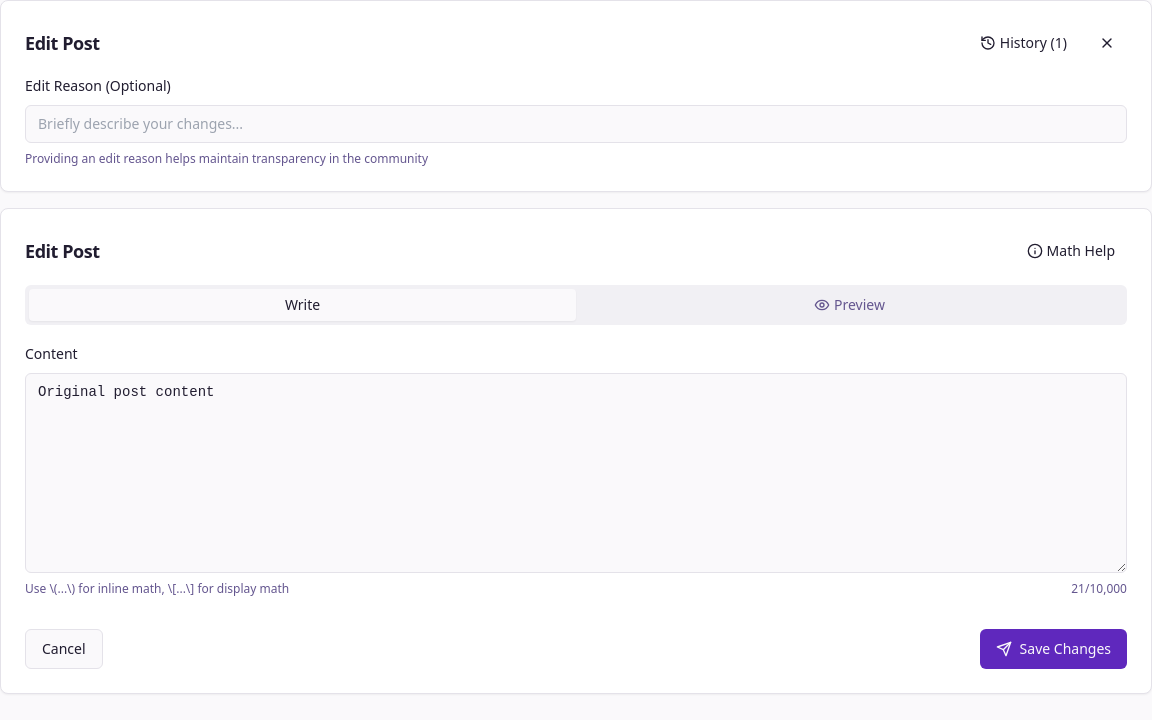
Test: PostEditor › shows edit history when history button is clicked
The width and height of the screenshot is (1152, 720).
Click the button "History (1)": [1023, 43] box [968,25,1079,61]
(page scrolled)
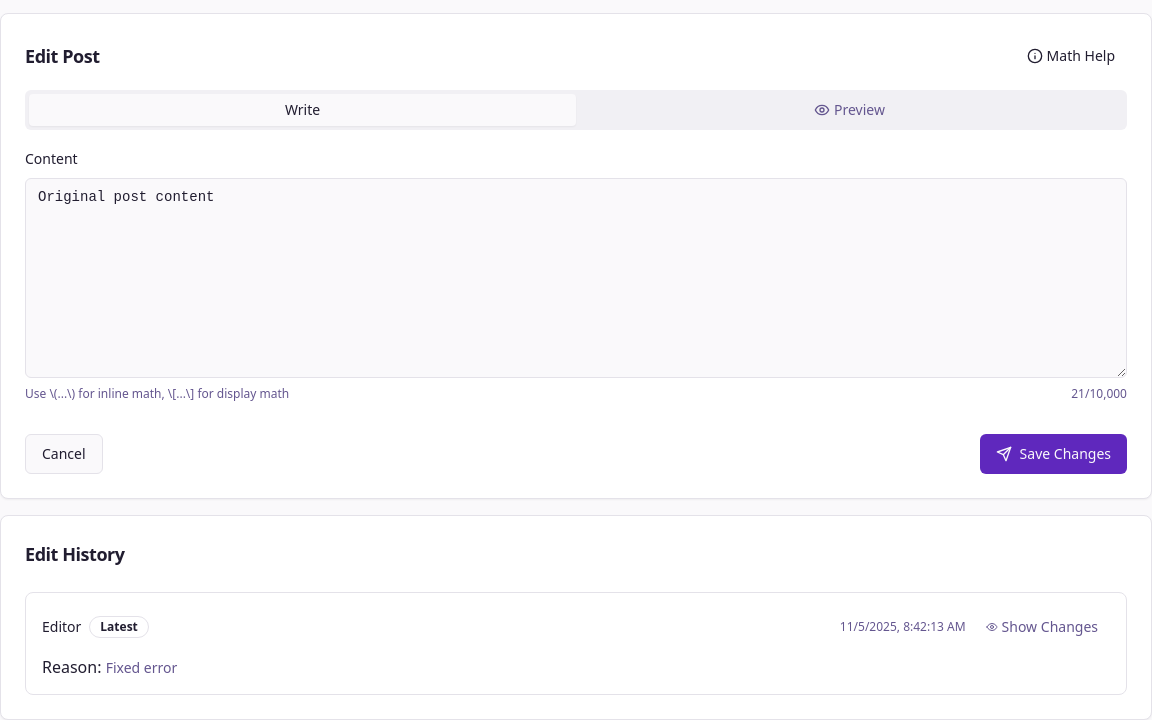
Check: the text "Edit History" is shown, box [25,542,125,566]
Check: the text "Editor" is shown, box [42,617,81,637]
Check: the text "Fixed error" is shown, box [106,658,177,677]
